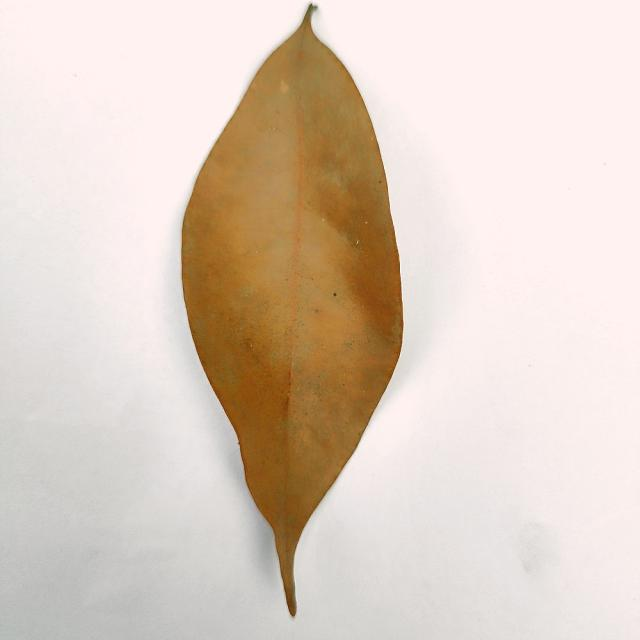Dry_Leaf-Lychee: (179, 6, 405, 618)
